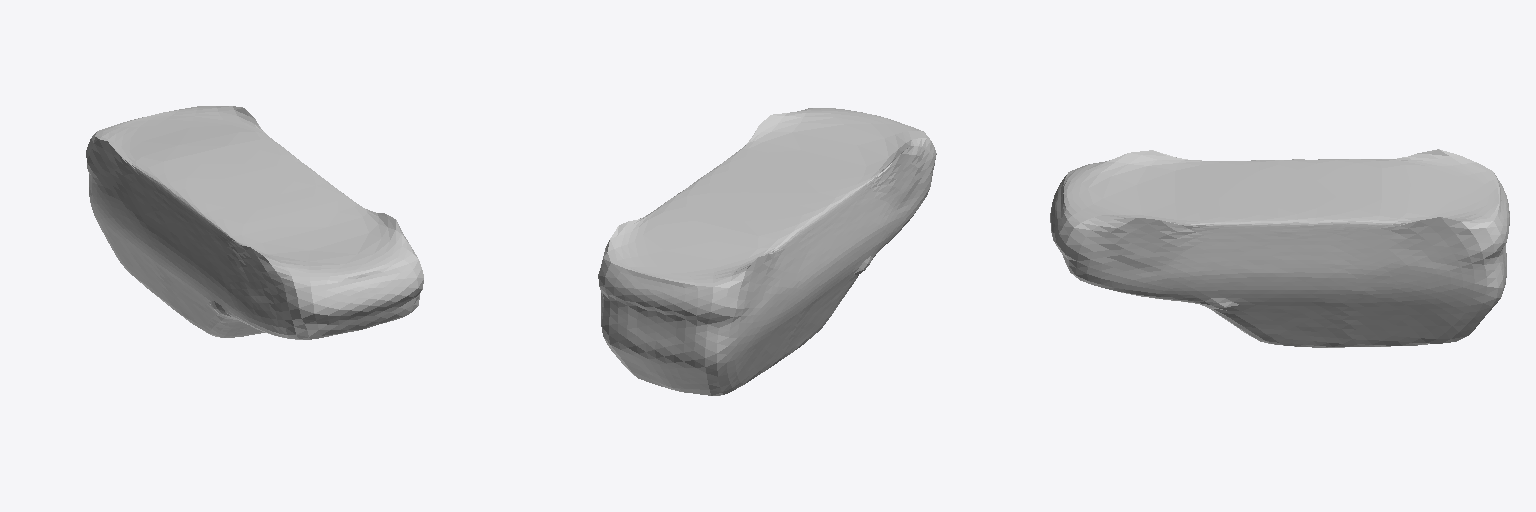
File: fiat_deformed.obj
The picture shows the model from 3 angles: view 1: azimuth 30°, elevation 25°; view 2: azimuth 150°, elevation 25°; view 3: azimuth 270°, elevation 25°; orthographic projection.
Size of the model in its own units: 1.39 by 1.36 by 3.86.